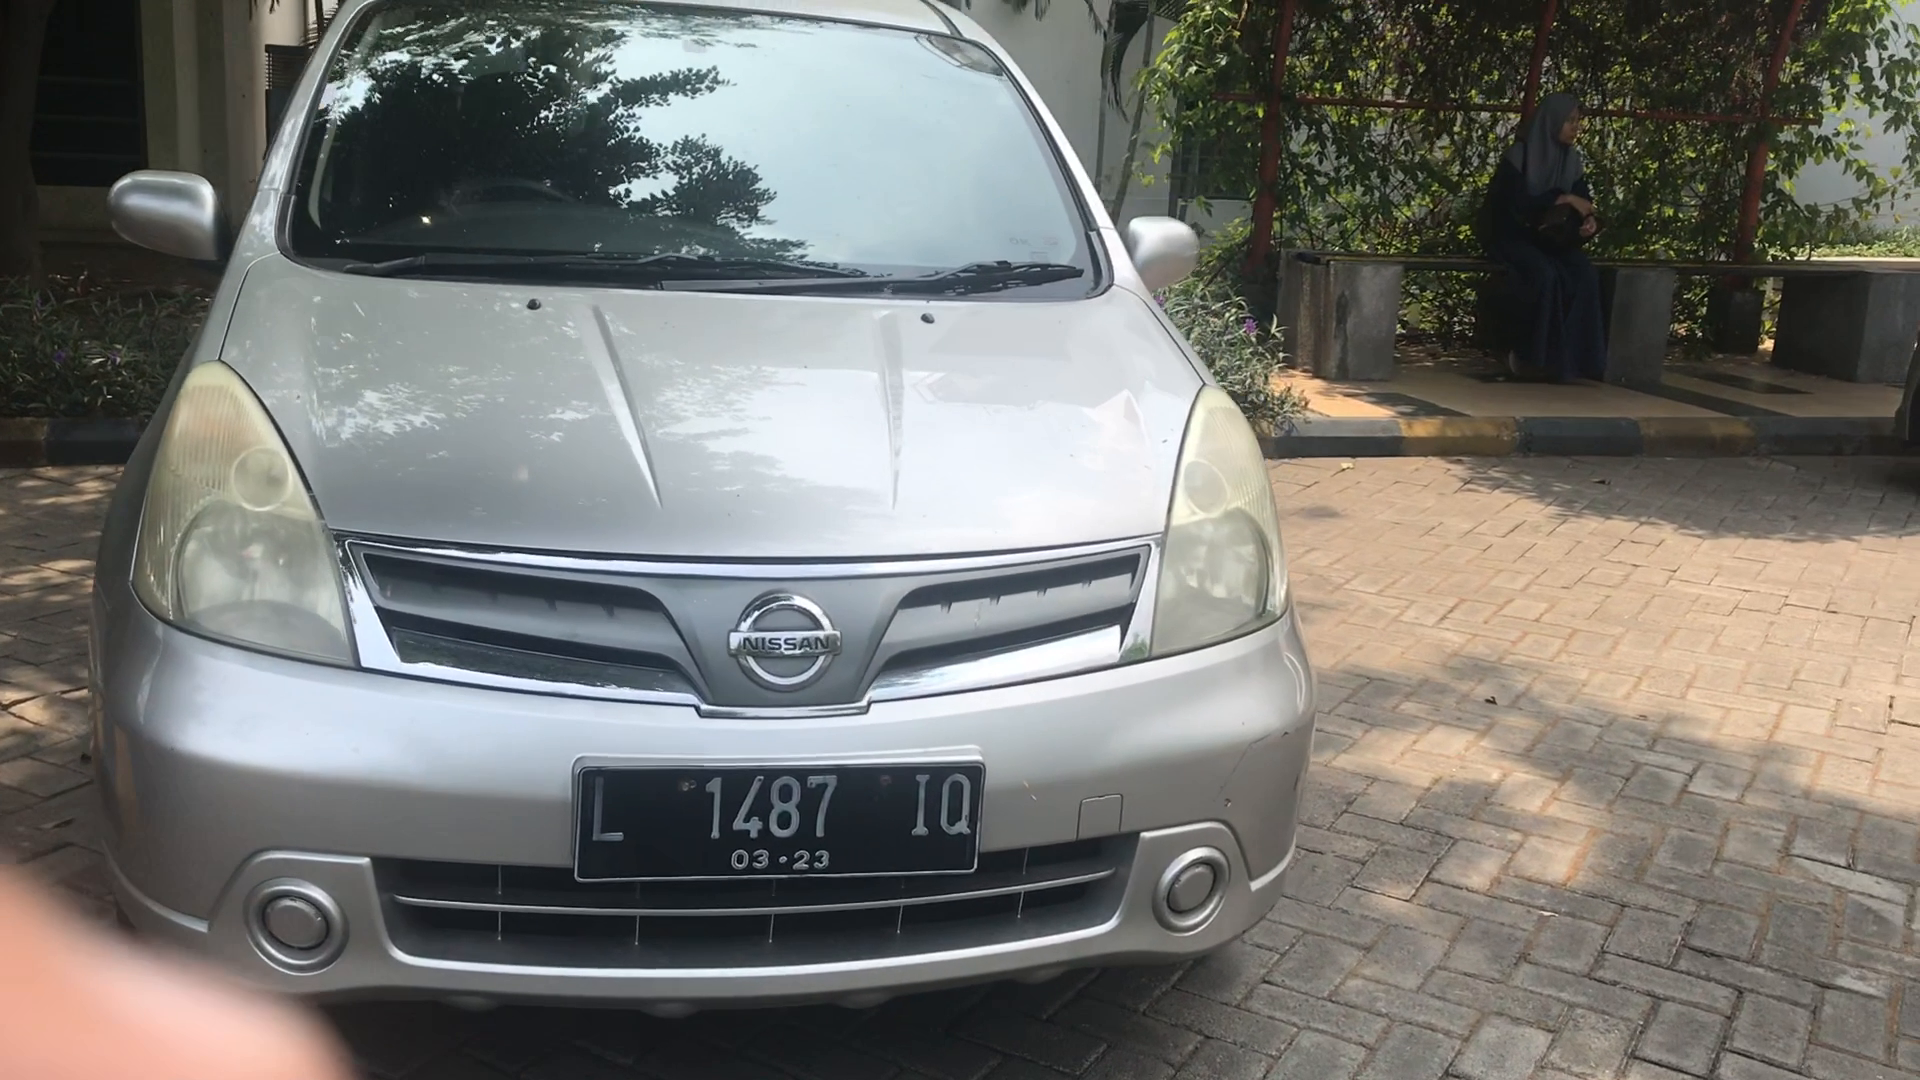plate: (572, 762, 987, 872)
